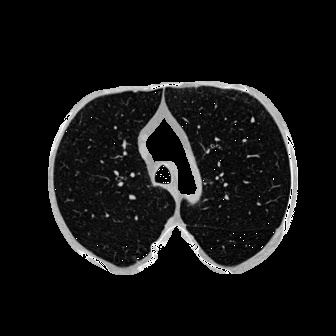PN: (250, 118, 254, 122)
